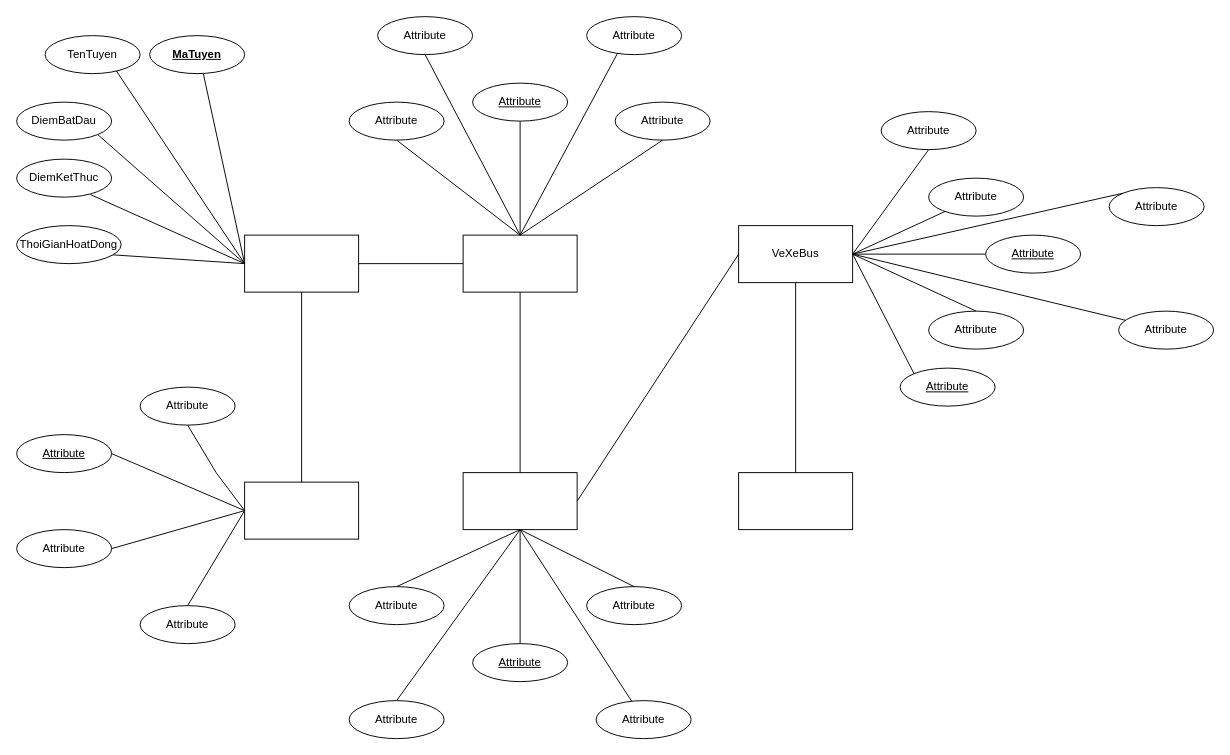
This 1230x755 diagram has some shape labels left out. Each missing label, with the centre of its shape:
HanhKhach: the point at 795,501
LichTrinh: the point at 519,263
TramDung: the point at 301,510
TuyenXe: the point at 301,263
XeBus: the point at 519,501
